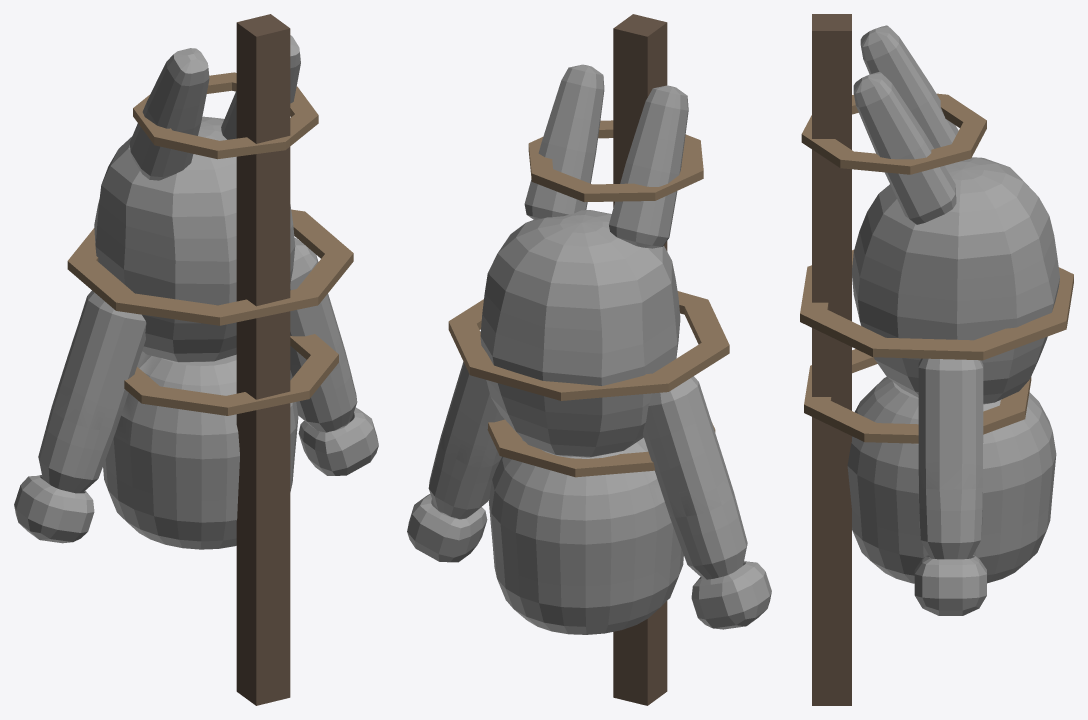
File: hangman_5.glb
3 views of the same model, side by side, from view 1: azimuth 30°, elevation 25°; view 2: azimuth 150°, elevation 25°; view 3: azimuth 270°, elevation 25° (orthographic).
Parts seen in each view (by area): view 1: Cube.1078; view 2: Cube.1078; view 3: Cube.1078.
Boxes of the visible parts, <box> form: Cube.1078: <box>14,14,378,705</box>; Cube.1078: <box>407,14,771,705</box>; Cube.1078: <box>800,14,1073,705</box>.
Size of the model in its own units: 0.1493 by 0.2733 by 0.1005.
